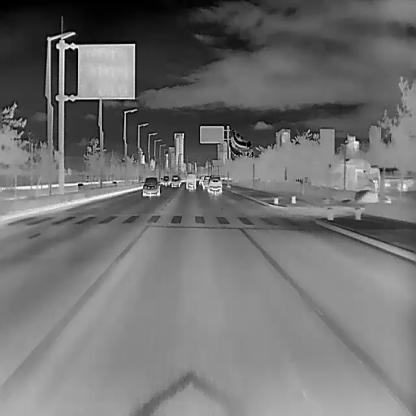car: (142, 176, 160, 197), (207, 174, 222, 193), (185, 172, 195, 190), (200, 174, 210, 189), (170, 174, 180, 187), (160, 175, 170, 186)
